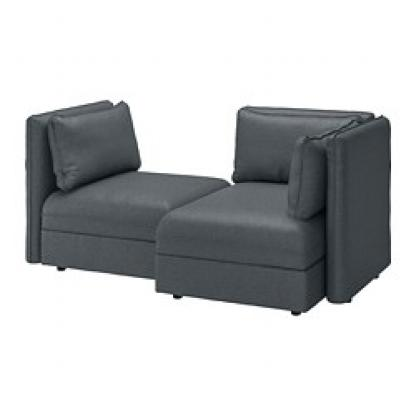Sofa: (18, 62, 398, 326)
